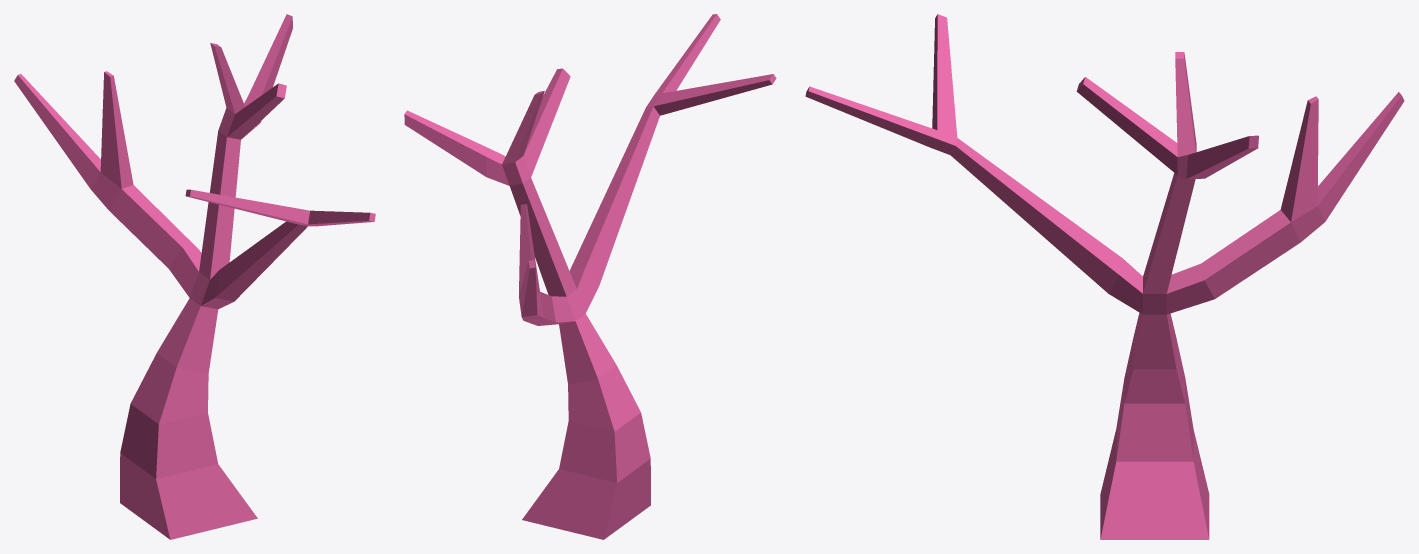
The model's file is bushA.glb.
3 views of the same model, side by side, from view 1: azimuth 30°, elevation 25°; view 2: azimuth 150°, elevation 25°; view 3: azimuth 270°, elevation 25° (orthographic). The views are drawn at different scales.
Parts seen in each view (by area): view 1: Cube; view 2: Cube; view 3: Cube.
Boxes of the visible parts, x1,y1,x2,y2 form: Cube: (14, 14, 375, 539); Cube: (404, 14, 776, 539); Cube: (805, 14, 1404, 539).
Bounding box in the file's own units: 0.3412 × 0.5888 × 0.6612.
